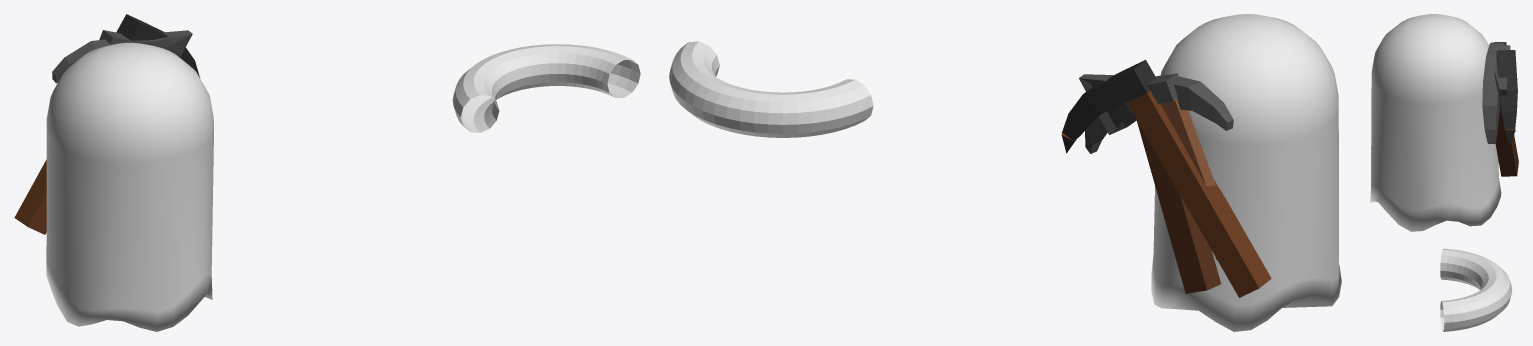
The model's file is Phantom_Miner.fbx.
The picture shows the model from 3 angles, left to right: view 1: azimuth 30°, elevation 25°; view 2: azimuth 150°, elevation 25°; view 3: azimuth 270°, elevation 25°; orthographic projection. The views are drawn at different scales.
Parts seen in each view (by area): view 1: Cylindre.001, Tore, Cube.001, Cube.003, Cube; view 2: Cylindre.001, Cube.001, Tore, Cube, Cube.003; view 3: Cylindre.001, Tore, Cube, Cube.001, Cube.003.
Part boxes in pixels (<box>): Cylindre.001: <box>46,42,213,331</box>; Tore: <box>452,44,640,132</box>; Cube.001: <box>14,14,200,234</box>; Cube.003: <box>99,30,192,57</box>; Cube: <box>52,39,163,83</box>; Cylindre.001: <box>1151,14,1341,331</box>; Cube.001: <box>1061,60,1271,297</box>; Tore: <box>669,41,873,137</box>; Cube: <box>1085,74,1233,293</box>; Cube.003: <box>1079,73,1216,259</box>; Cylindre.001: <box>1370,14,1501,231</box>; Tore: <box>1440,248,1512,331</box>; Cube: <box>1482,42,1518,176</box>; Cube.001: <box>1496,50,1517,145</box>; Cube.003: <box>1494,45,1510,113</box>.
Bounding box in the file's own units: 812 × 328 × 238.
